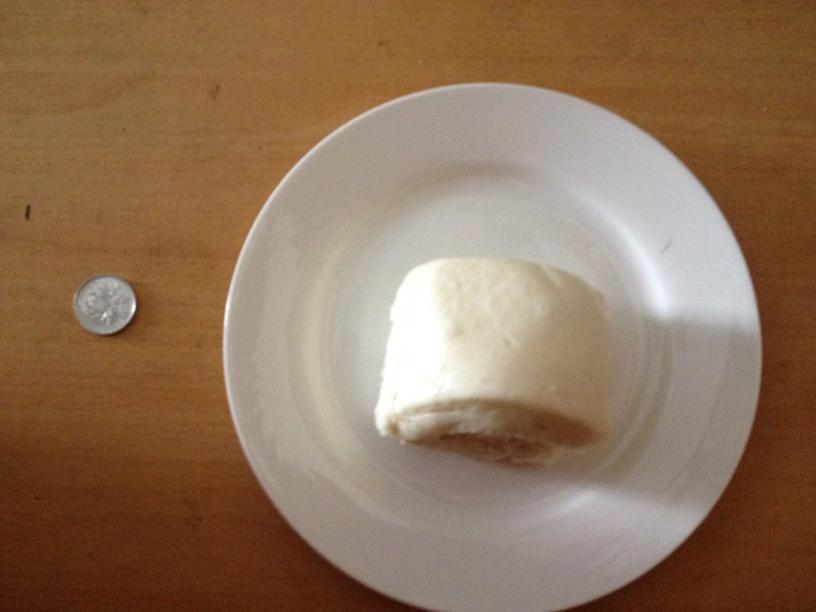bun: (370, 260, 620, 464)
coin: (74, 274, 138, 337)
